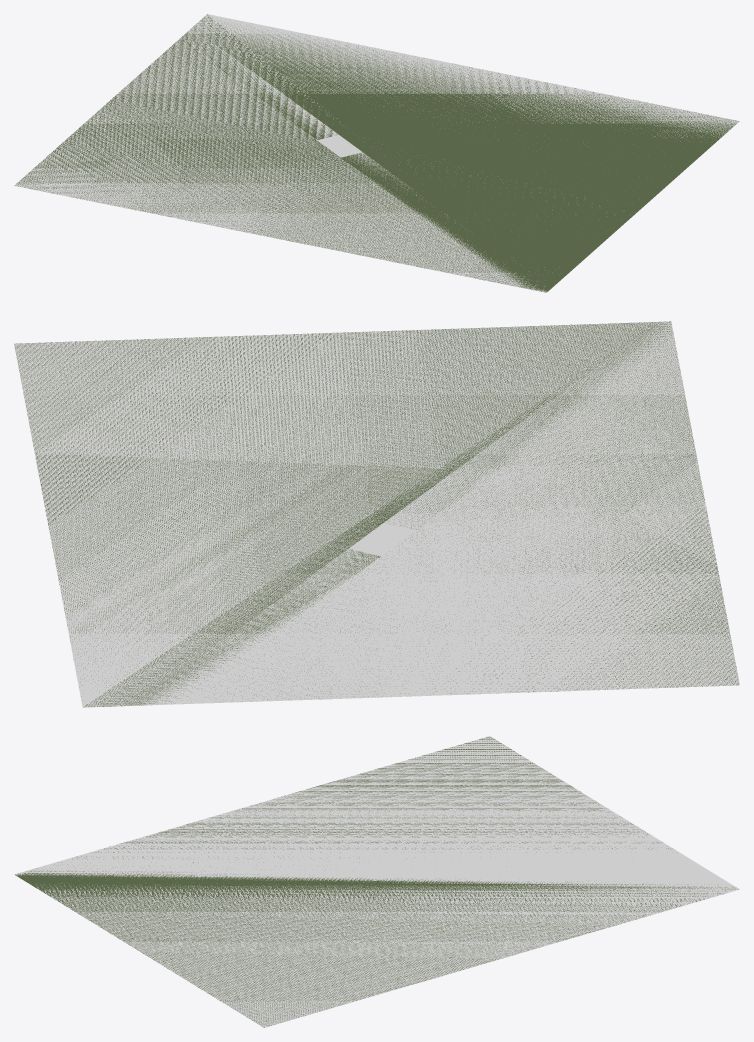
File: ground.glb
3 views of the same model, one above another, from view 1: azimuth 30°, elevation 25°; view 2: azimuth 150°, elevation 25°; view 3: azimuth 270°, elevation 25° (orthographic). The views are drawn at different scales.
Visible parts, largest first — view 1: ground, col_ground; view 2: col_ground, ground; view 3: col_ground, ground.
Boxes of the visible parts, x1=… form: ground: x1=15, y1=14, x2=738, y2=292; col_ground: x1=14, y1=14, x2=739, y2=292; col_ground: x1=14, y1=321, x2=739, y2=707; ground: x1=14, y1=321, x2=738, y2=707; col_ground: x1=14, y1=736, x2=739, y2=1027; ground: x1=15, y1=737, x2=738, y2=1027.
Size of the model in its own units: 3038 by 0 by 3193.
